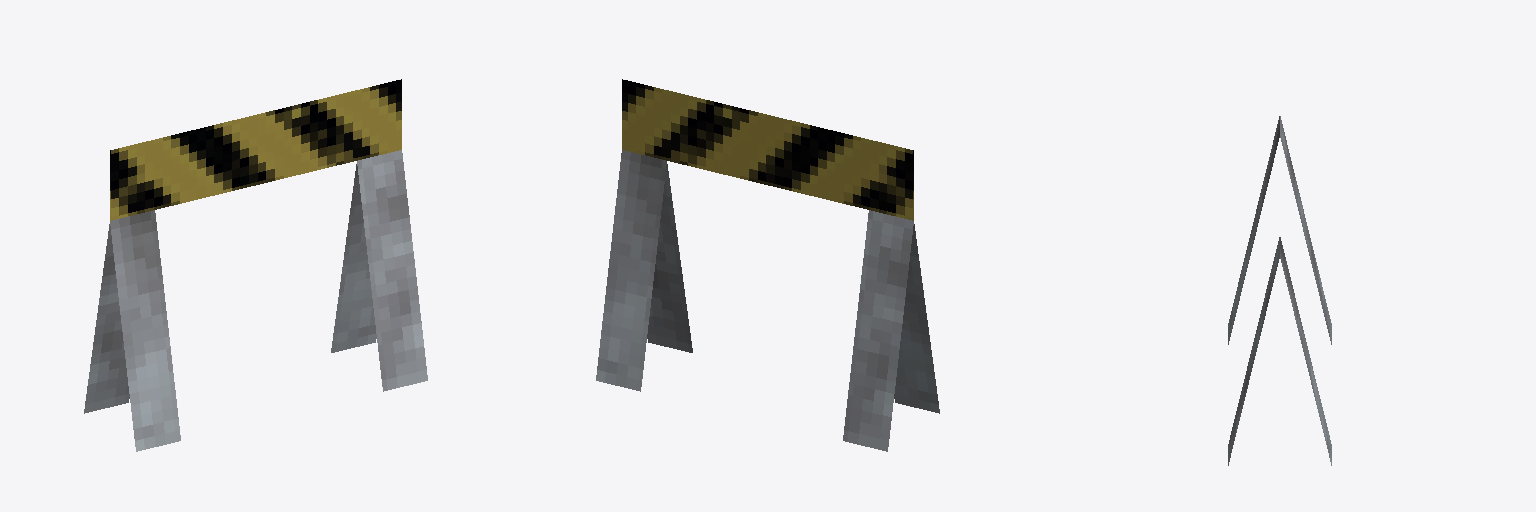
3 views of the same model, side by side, from view 1: azimuth 30°, elevation 25°; view 2: azimuth 150°, elevation 25°; view 3: azimuth 270°, elevation 25° (orthographic).
Parts seen in each view (by area): view 1: detailBarrier_typeA; view 2: detailBarrier_typeA; view 3: detailBarrier_typeA.
Part boxes in pixels (left/top/right/bottom): detailBarrier_typeA: left=84, top=79, right=427, bottom=451; detailBarrier_typeA: left=596, top=79, right=939, bottom=451; detailBarrier_typeA: left=1228, top=116, right=1331, bottom=465.
Bounding box in the file's own units: 0.433 × 0.4 × 0.134.
Materials: 2 (2 with a texture image).